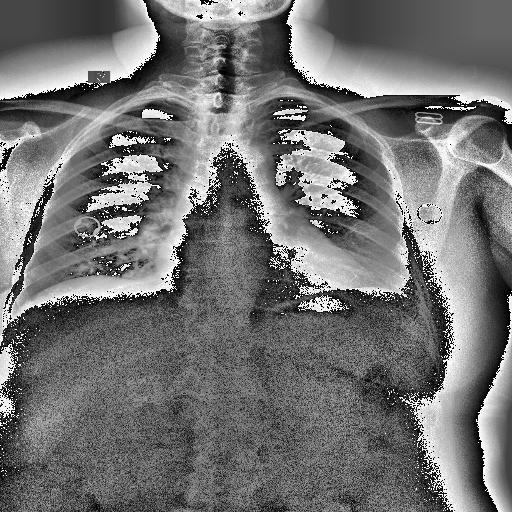0- Aortic enlargement: (224, 140, 276, 198)
3- Cardiomegaly: (153, 234, 378, 300), (155, 248, 378, 308), (156, 242, 376, 288)
